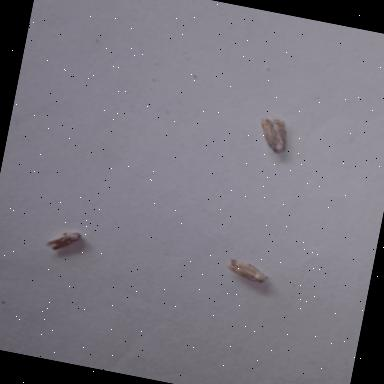pbw: (256, 115, 294, 156), (226, 256, 272, 284), (44, 226, 83, 256)
